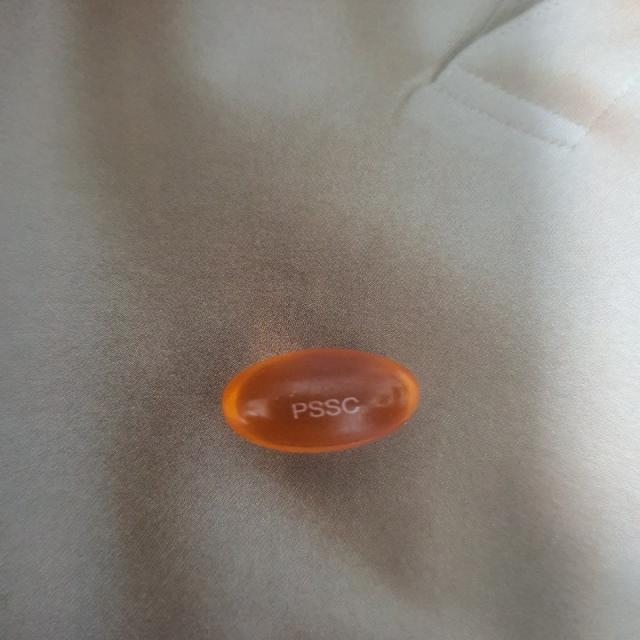pill: (193, 331, 434, 467)
